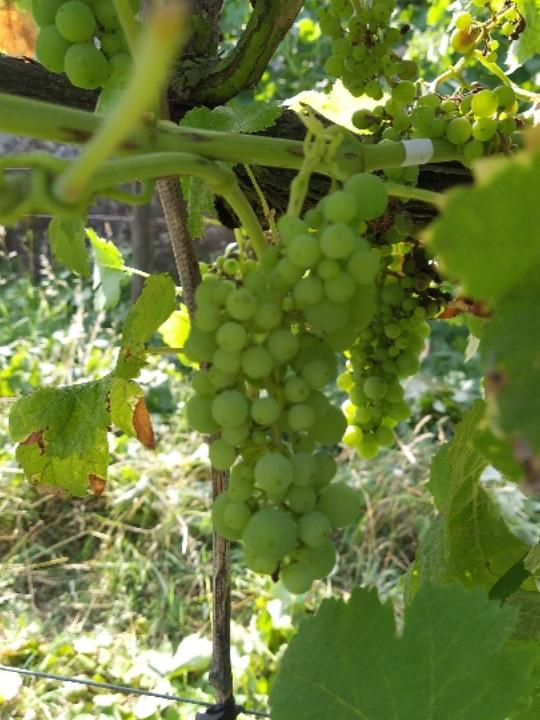grape: (178, 169, 394, 596), (346, 264, 434, 461)
